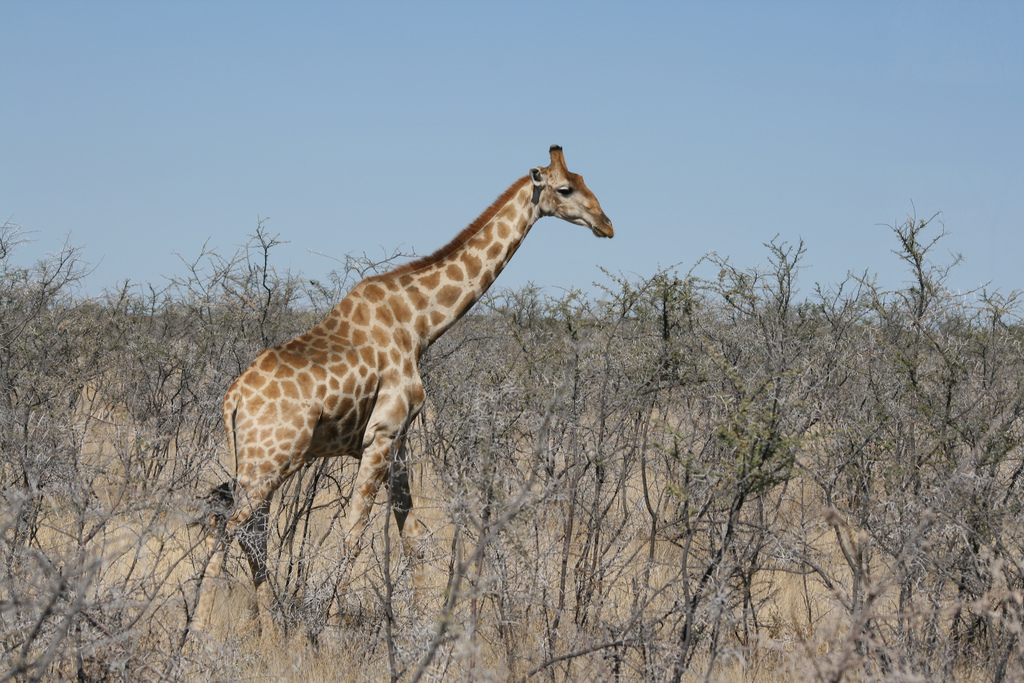giraffe: (208, 143, 638, 557)
